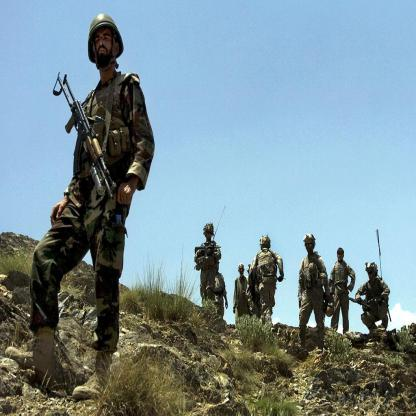face: (94, 31, 116, 60), (306, 243, 314, 254), (207, 231, 213, 240), (369, 271, 375, 280), (338, 253, 344, 261), (240, 267, 245, 276)
